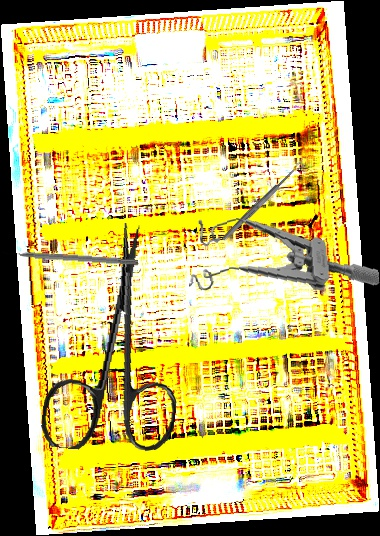Hook Surgical: (2, 248, 139, 266)
Iris Scissors: (39, 216, 195, 460)
Speculum: (182, 201, 380, 306)
Surgical Spoon: (220, 161, 305, 242)
